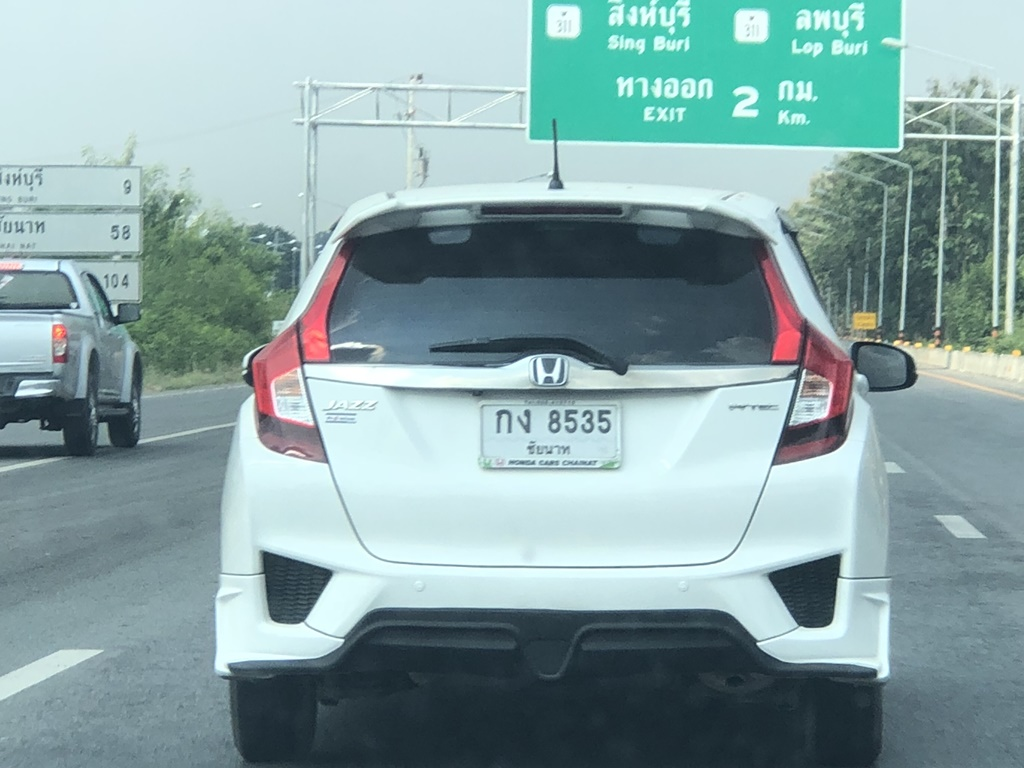five: (557, 398, 582, 443), (592, 395, 615, 443)
plate: (473, 389, 632, 478)
